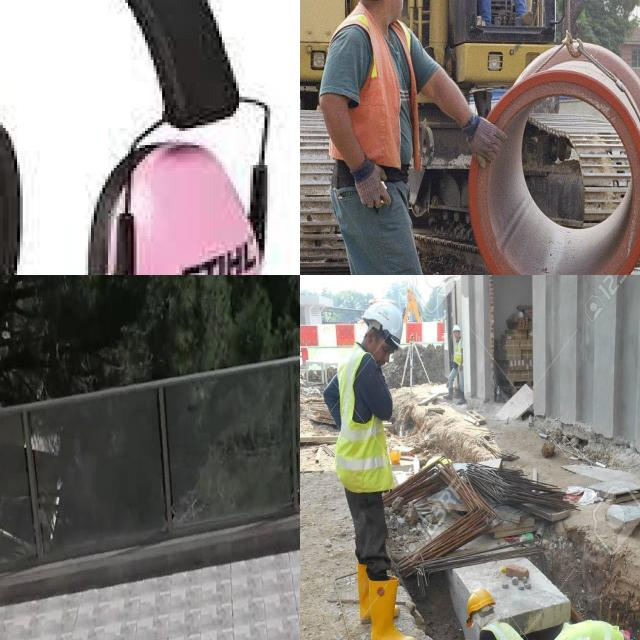Ear-protection: (0, 0, 287, 275)
boots: (363, 571, 423, 640)
face_nomask: (367, 334, 397, 373)
hand_glove: (463, 104, 510, 170), (348, 159, 395, 212)
head_helmet: (358, 297, 405, 340), (459, 582, 496, 612), (527, 633, 548, 640), (452, 321, 464, 333)
person: (312, 0, 451, 275), (341, 297, 420, 640), (458, 584, 543, 640), (444, 316, 473, 401), (525, 624, 640, 640)
vest: (329, 21, 424, 172), (342, 354, 390, 488), (557, 620, 625, 640), (452, 341, 465, 366)
